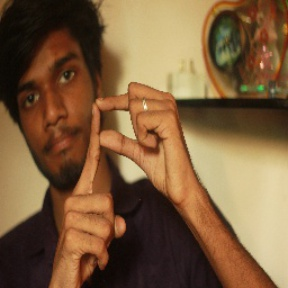P: (50, 83, 189, 253)
